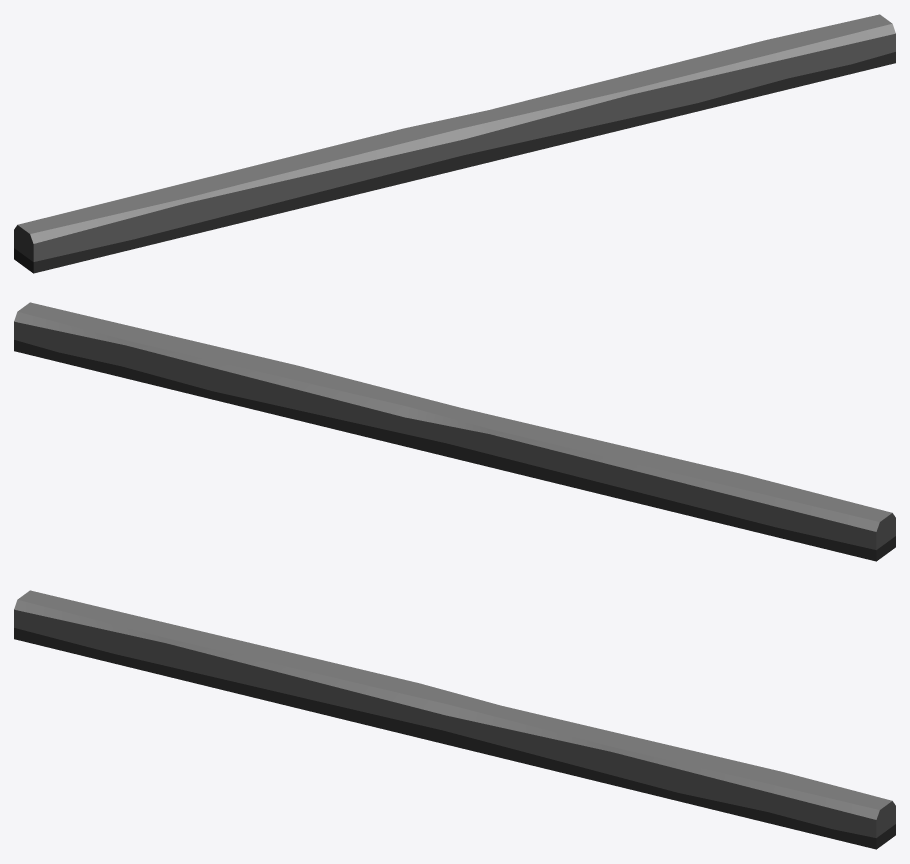
File: 20C_low_fence_01.fbx
The picture shows the model from 3 angles, top to bottom: view 1: azimuth 30°, elevation 25°; view 2: azimuth 150°, elevation 25°; view 3: azimuth 330°, elevation 25°; orthographic projection.
Parts seen in each view (by area): view 1: 20C_low_fence_01; view 2: 20C_low_fence_01; view 3: 20C_low_fence_01.
Boxes of the visible parts, <box> form: 20C_low_fence_01: <box>14,14,895,273</box>; 20C_low_fence_01: <box>14,302,895,561</box>; 20C_low_fence_01: <box>14,590,895,849</box>.
Size of the model in its own units: 34.23 by 1.4 by 1.34.
